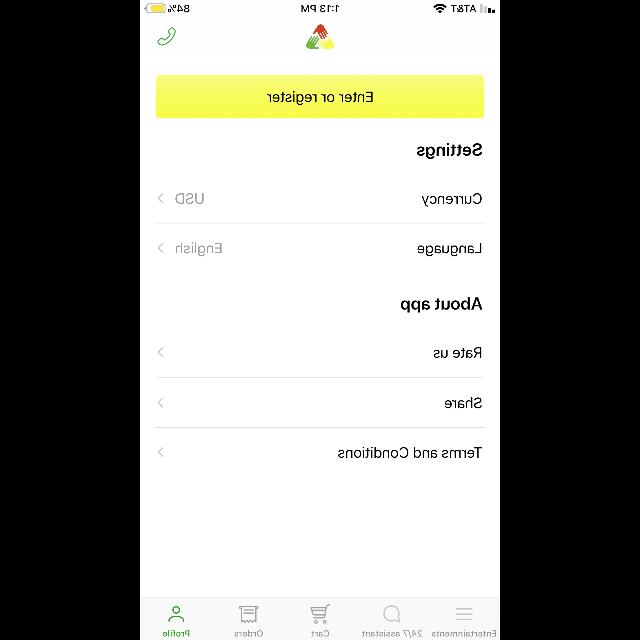icon: (310, 604, 330, 624), (239, 606, 259, 622), (384, 606, 401, 622), (168, 606, 184, 622), (456, 608, 472, 620), (158, 447, 164, 457), (157, 398, 163, 408), (157, 347, 163, 357), (157, 243, 163, 253), (158, 193, 164, 203)
image: (306, 25, 334, 49), (158, 28, 176, 46)
text: (338, 447, 482, 458), (400, 297, 482, 313), (416, 143, 482, 159), (421, 193, 481, 207), (417, 244, 481, 256), (176, 243, 222, 257), (433, 348, 481, 358), (362, 630, 422, 638), (432, 630, 496, 636), (444, 398, 482, 408), (176, 193, 204, 204), (235, 630, 263, 636), (163, 630, 189, 636), (311, 630, 329, 636)
textbutton: (156, 75, 484, 118)
uppertaskbar: (140, 0, 500, 14)
